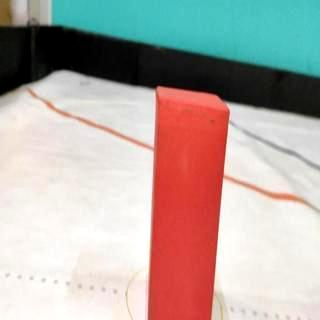redbox: (145, 84, 230, 320)
